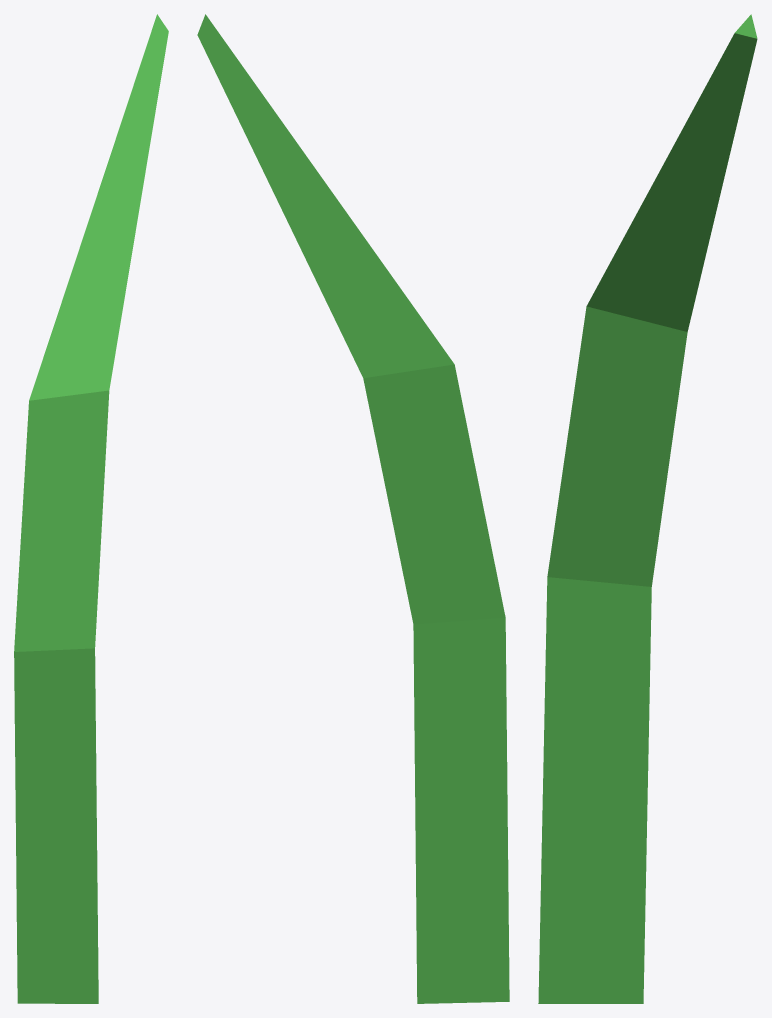
The model's file is blade5.glb.
The picture shows the model from 3 angles, left to right: view 1: azimuth 30°, elevation 25°; view 2: azimuth 150°, elevation 25°; view 3: azimuth 270°, elevation 25°; orthographic projection. The views are drawn at different scales.
Visible parts, largest first — view 1: 5; view 2: 5; view 3: 5.
Boxes of the visible parts, x1=… form: 5: x1=14, y1=14, x2=168, y2=1003; 5: x1=197, y1=14, x2=509, y2=1003; 5: x1=538, y1=14, x2=757, y2=1003.
Size of the model in its own units: 0.1209 by 0.4857 by 0.0896.
